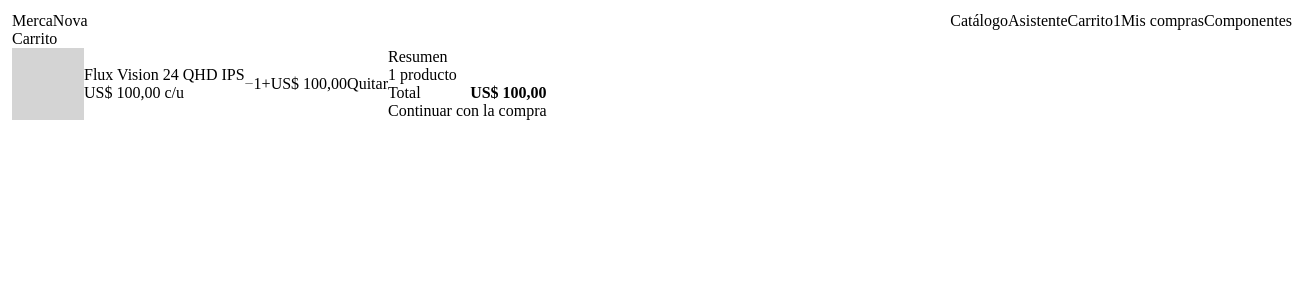
App routes › goes from the cart to the checkout with "Continuar con la compra"
Click the button "Continuar con la compra".
click(467, 111)  # box [388,102,547,120]
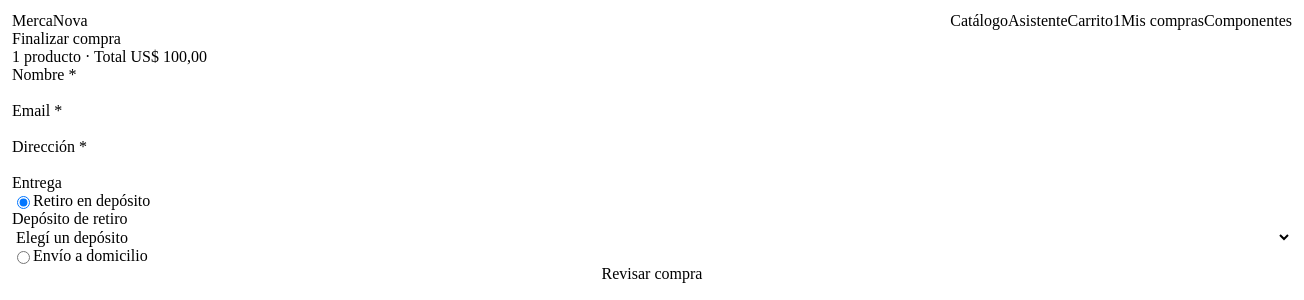
Expected: the heading "Finalizar compra" is shown, [12,30,121,47]
